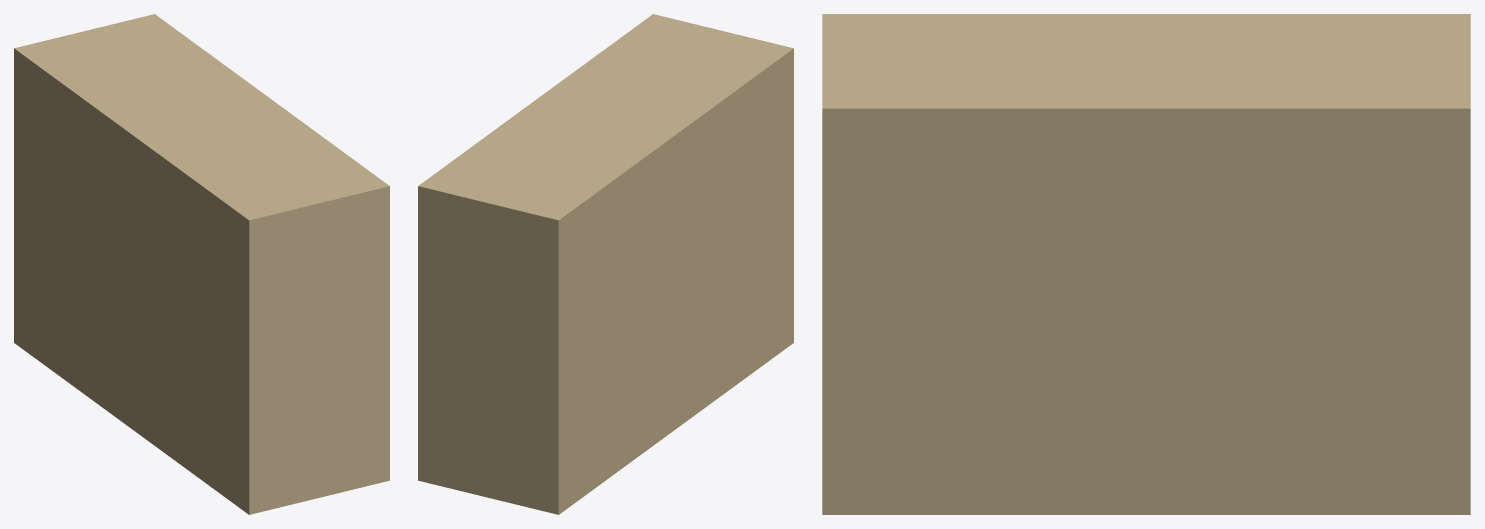
Rendered from prop_cow_lod2.glb.
3 renders of one model, left to right at view 1: azimuth 30°, elevation 25°; view 2: azimuth 150°, elevation 25°; view 3: azimuth 270°, elevation 25°, orthographic. The views are drawn at different scales.
Visible parts, largest first — view 1: prop_cow_lod2; view 2: prop_cow_lod2; view 3: prop_cow_lod2.
Part boxes in pixels (x1,y1,x2,y2): prop_cow_lod2: (14, 14, 389, 514); prop_cow_lod2: (418, 14, 793, 514); prop_cow_lod2: (822, 14, 1470, 514).
Bounding box in the file's own units: 0.75 × 1.5 × 2.17.
